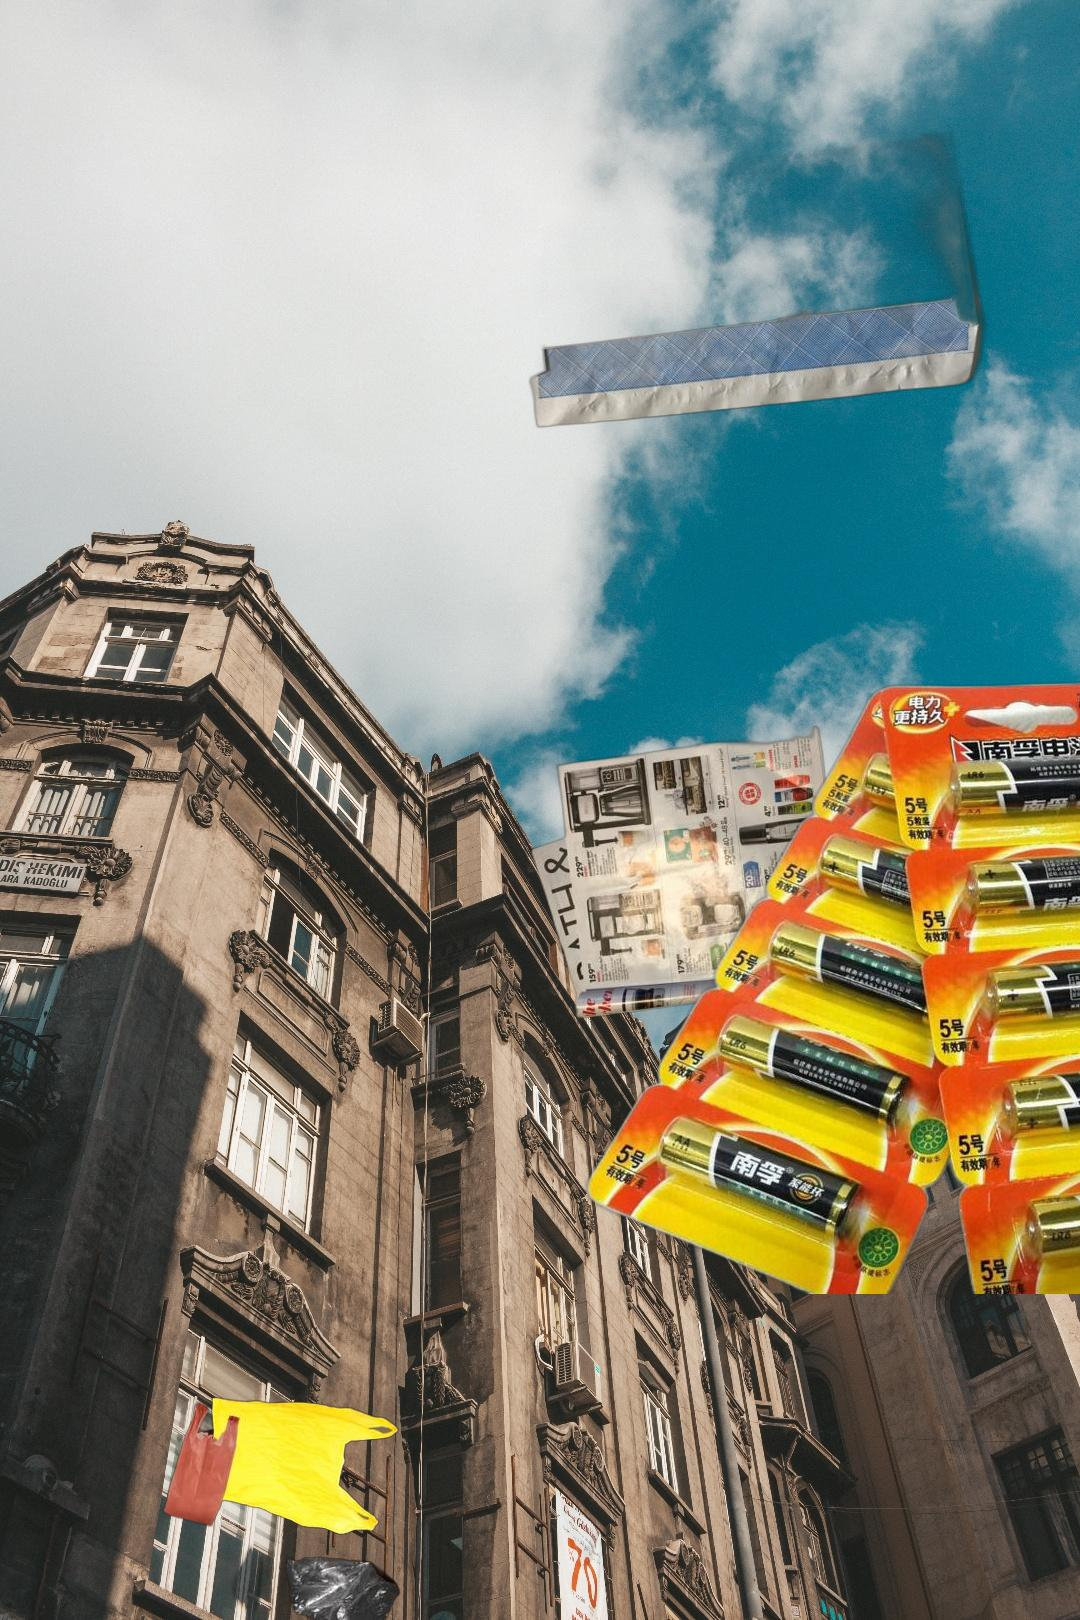battery: (556, 675, 1080, 1295)
paper: (526, 118, 992, 430), (527, 723, 855, 1021)
plastic-bag: (160, 1381, 403, 1620)
